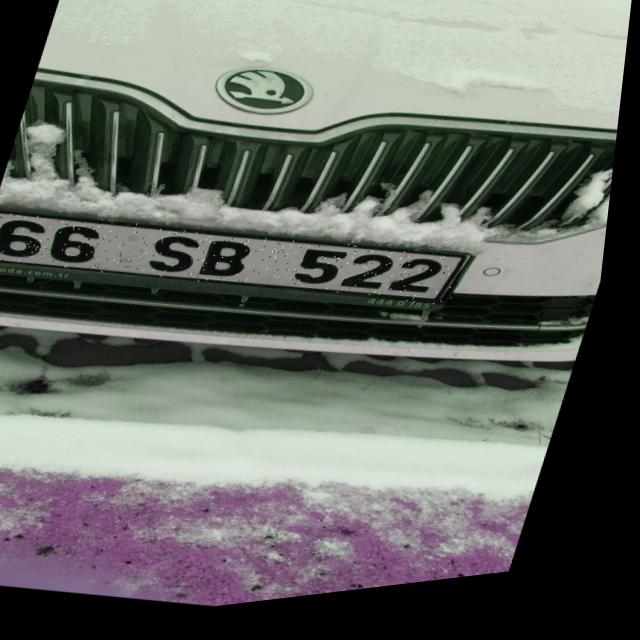license_plate: (0, 165, 482, 363)
